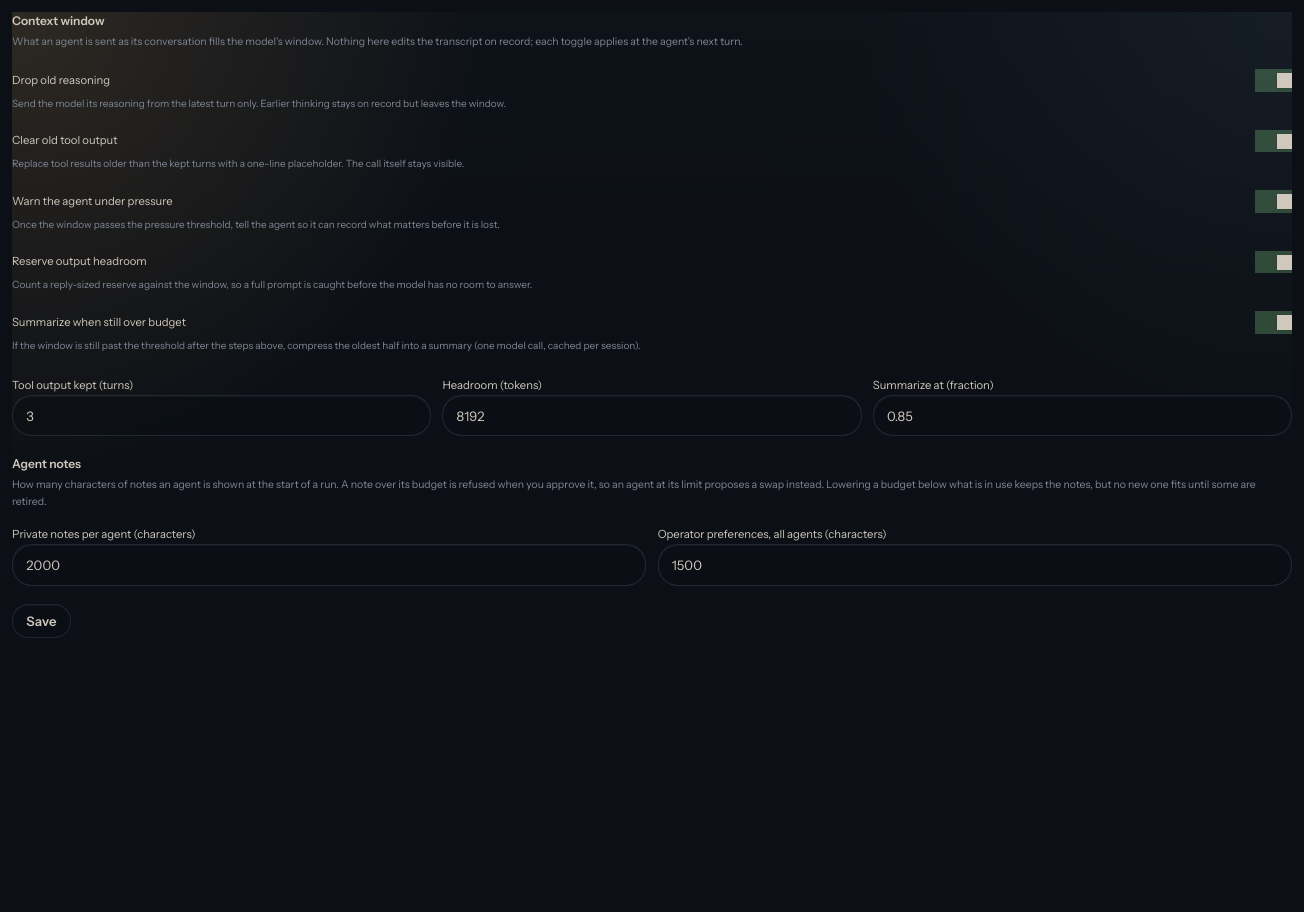
Test: ContextSettings › shows the backend refusal of an out-of-range budget
Clear the number field labelled "Private notes per agent (characters)": (329, 565) left=12, top=544, right=646, bottom=586
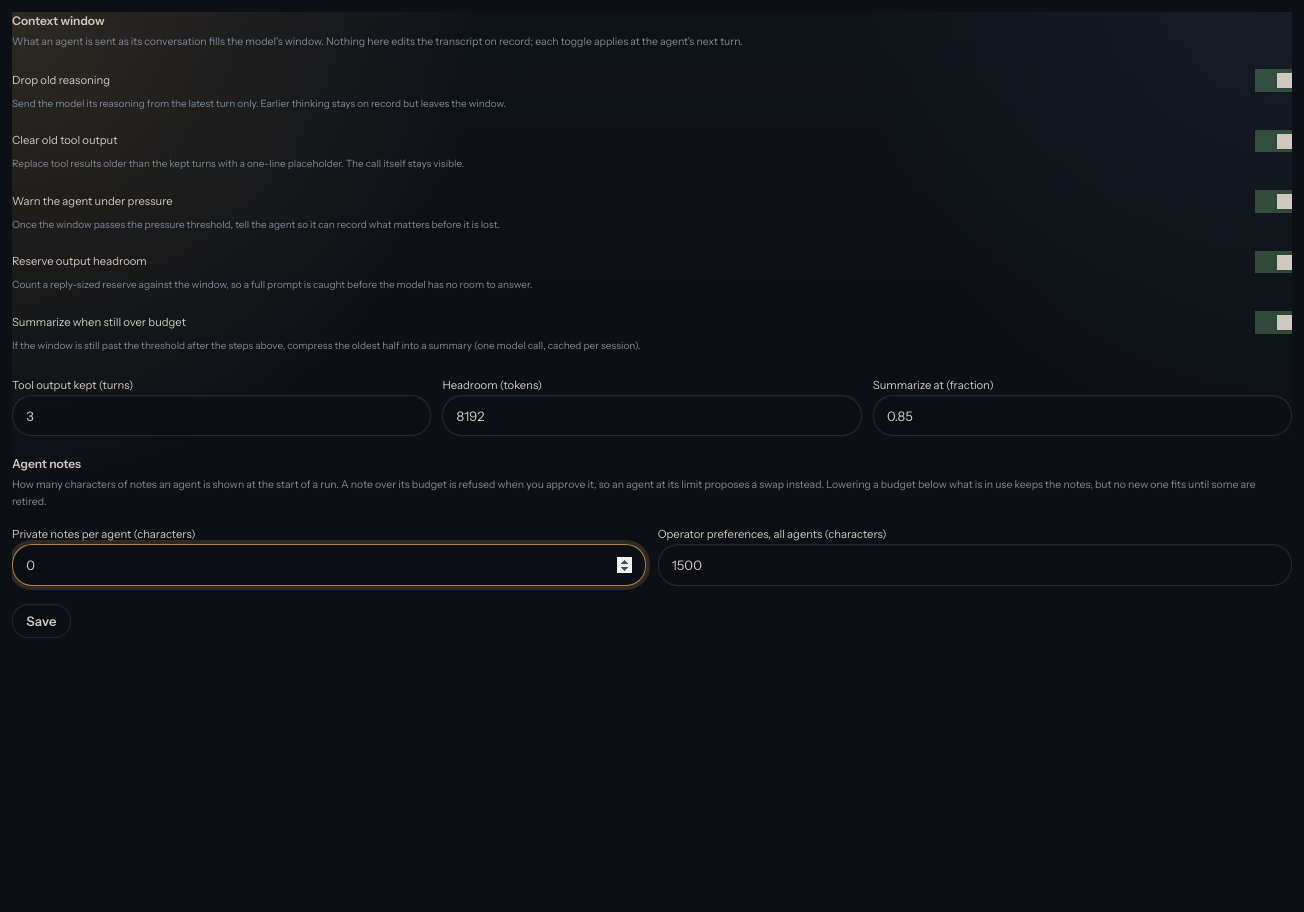
Click the button "Save": (41, 621) left=12, top=604, right=71, bottom=638
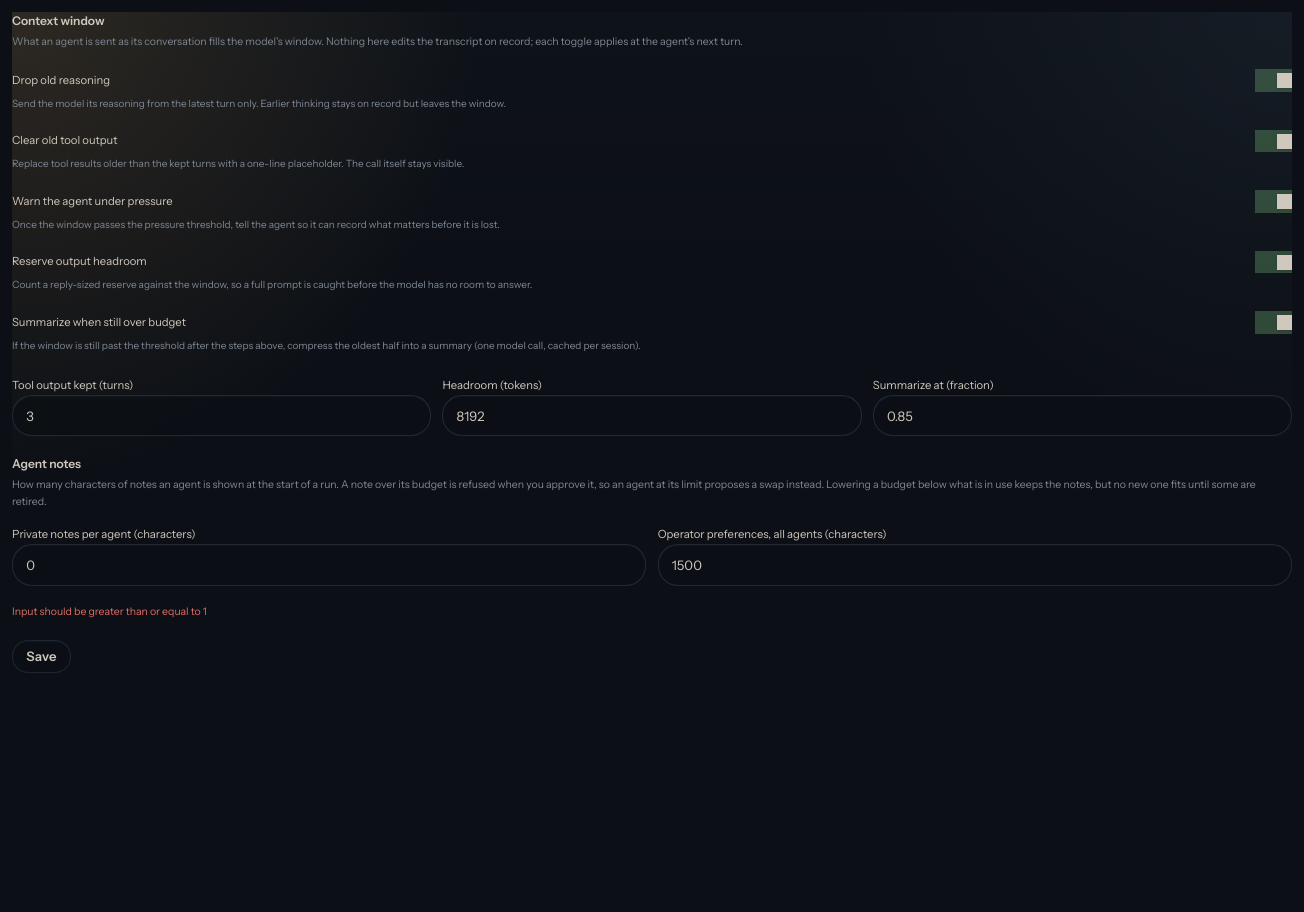
Result: the text "Input should be greater than or equal to 1" is shown at left=12, top=606, right=207, bottom=618
